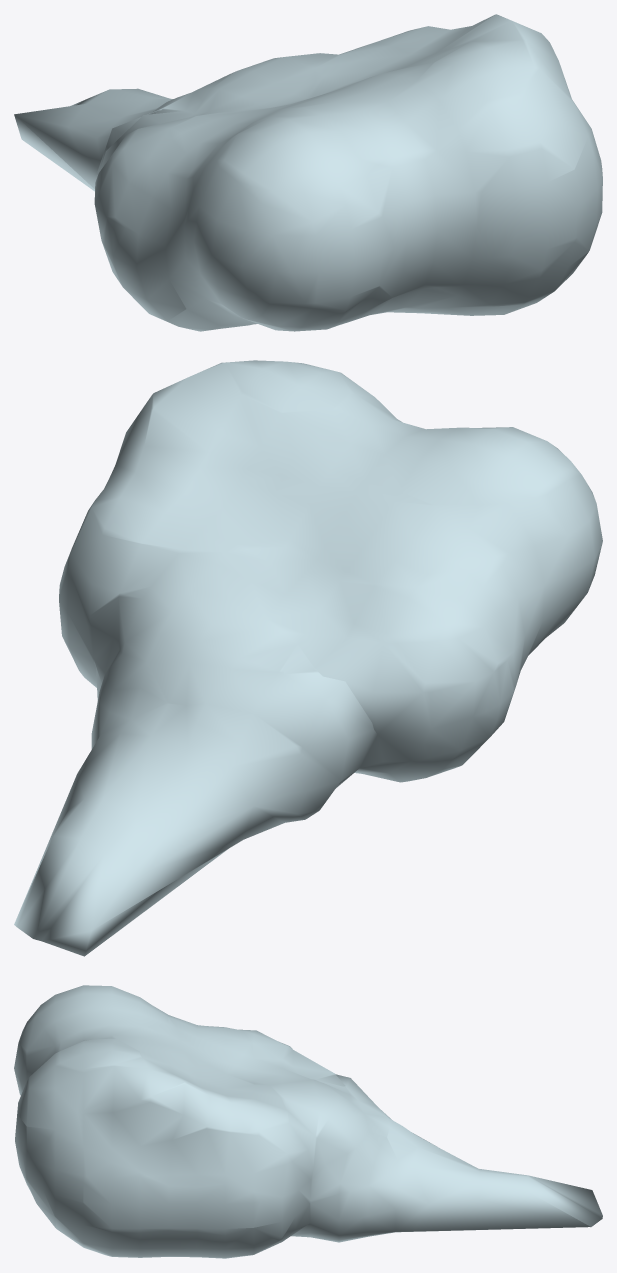
The model's file is RampaNubeChica.glb.
The picture shows the model from 3 angles, top to bottom: view 1: azimuth 30°, elevation 25°; view 2: azimuth 150°, elevation 25°; view 3: azimuth 270°, elevation 25°; orthographic projection. The views are drawn at different scales.
Parts seen in each view (by area): view 1: Mball.001; view 2: Mball.001; view 3: Mball.001.
Boxes of the visible parts, box(x1,y1,x2,y2) form: Mball.001: box(14, 14, 602, 331); Mball.001: box(14, 360, 602, 956); Mball.001: box(14, 985, 602, 1258).
Size of the model in its own units: 3.67 by 2.51 by 6.17.
